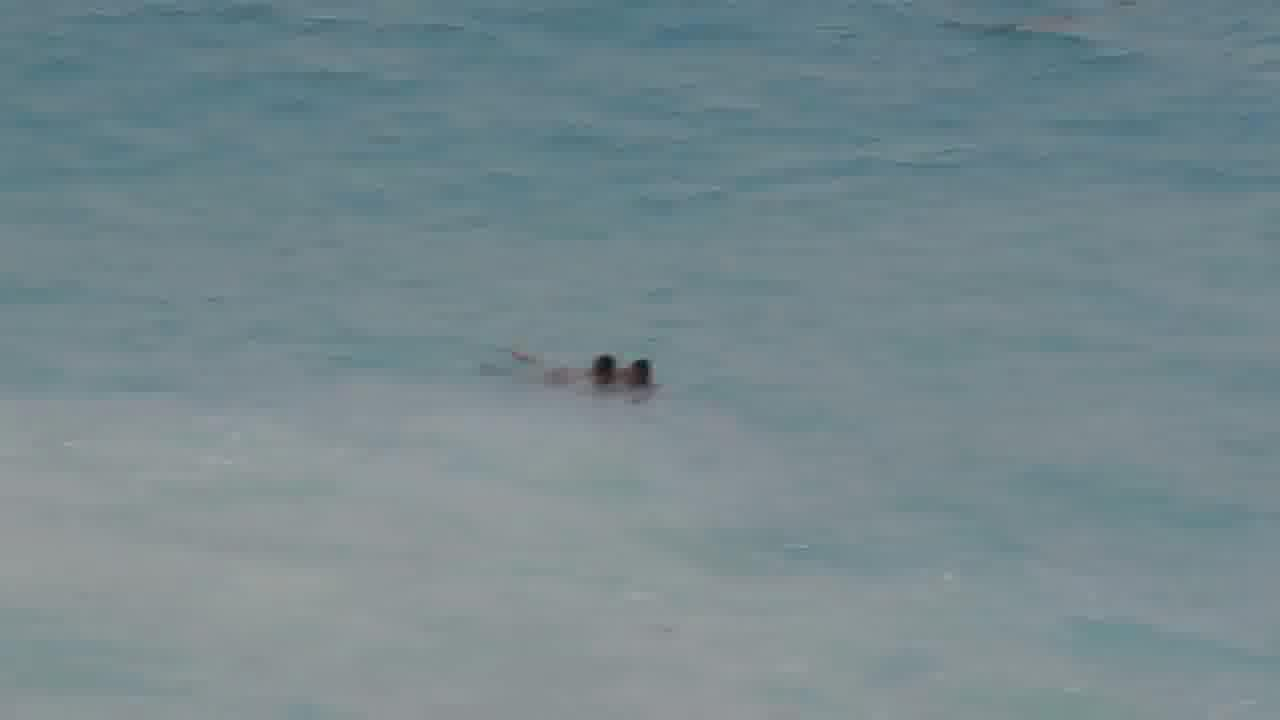human: (575, 347, 606, 396), (630, 346, 653, 391)
